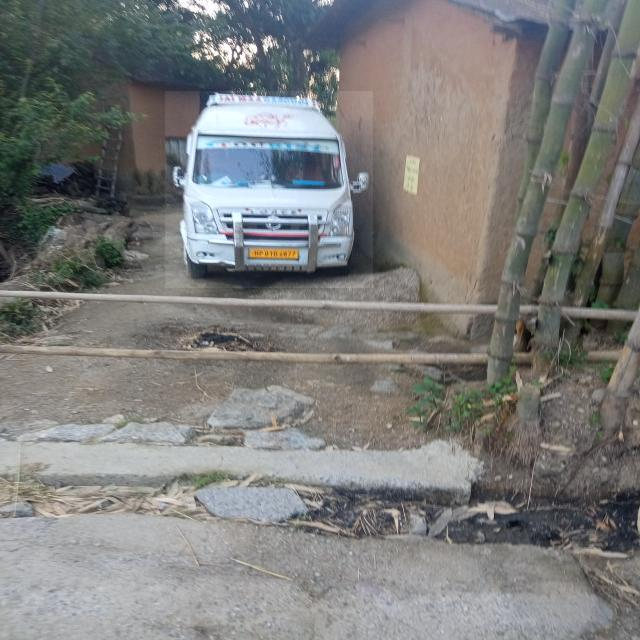Travller: (165, 91, 374, 288)
